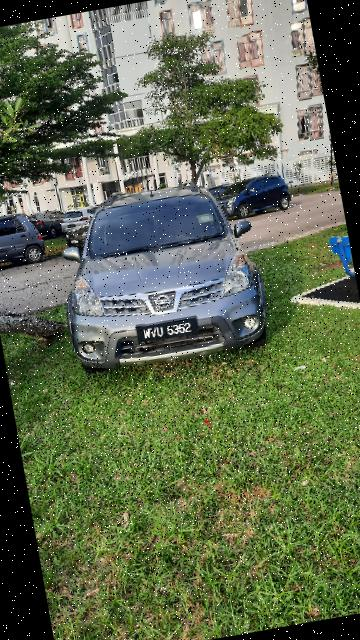License_Plate: (134, 313, 203, 348)
car: (45, 169, 279, 384)
